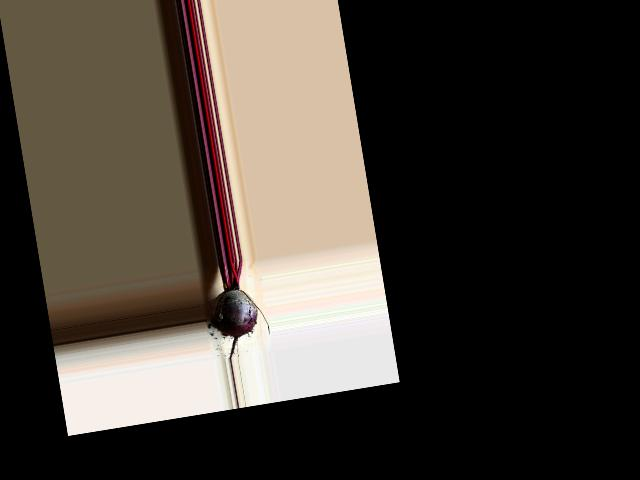beet: (202, 258, 273, 361)
